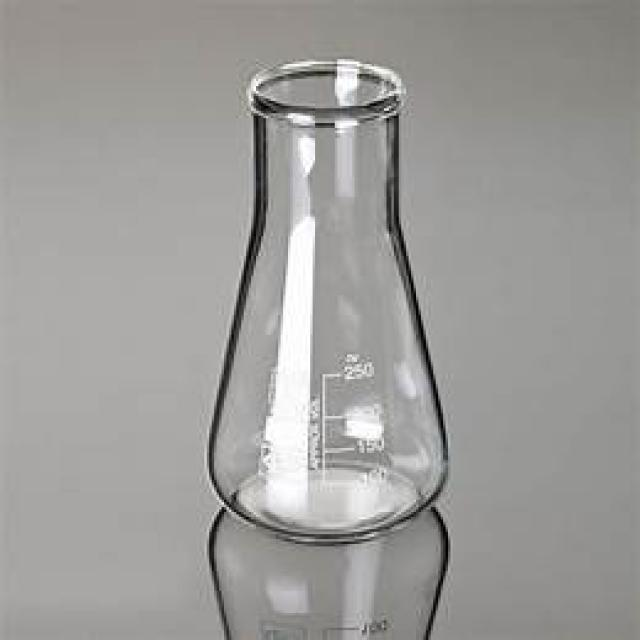Titrarion: (203, 53, 455, 546)
